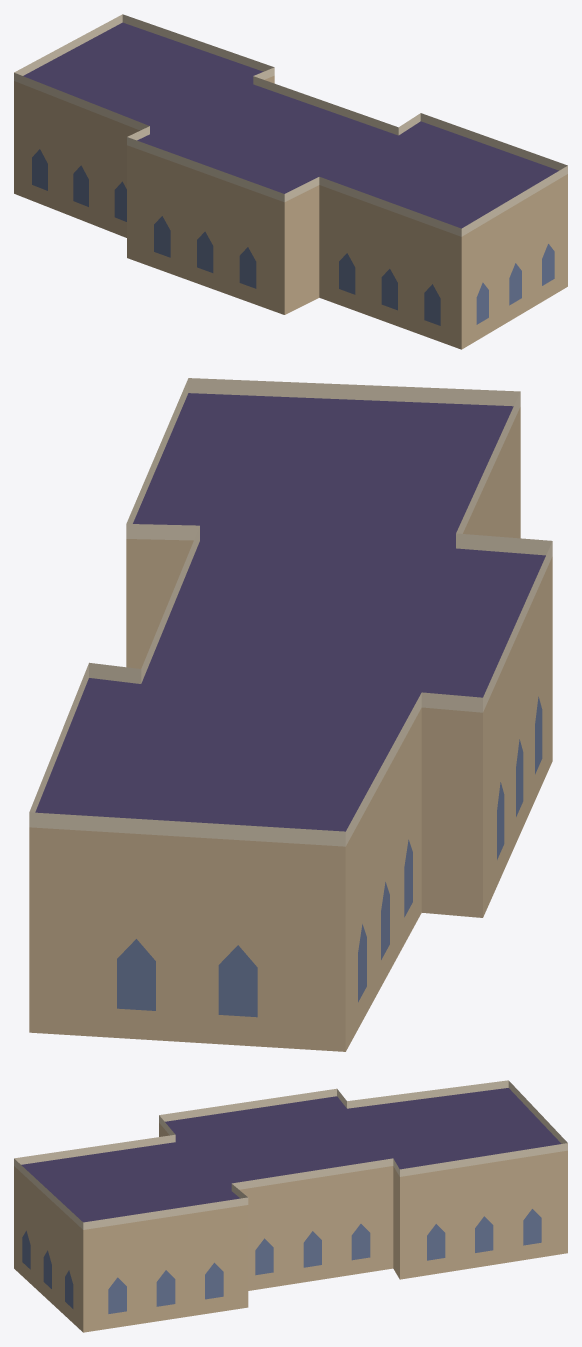
File: b-037-day.glb
3 renders of one model, top to bottom at view 1: azimuth 30°, elevation 25°; view 2: azimuth 150°, elevation 25°; view 3: azimuth 270°, elevation 25°, orthographic. The views are drawn at different scales.
Visible parts, largest first — view 1: campus/b-037-day-0; view 2: campus/b-037-day-0; view 3: campus/b-037-day-0.
Boxes of the visible parts, x1,y1,x2,y2 form: campus/b-037-day-0: [14, 14, 567, 349]; campus/b-037-day-0: [29, 378, 552, 1051]; campus/b-037-day-0: [14, 1080, 567, 1332].
Bounding box in the file's own units: 22.28 × 8.05 × 36.68.
